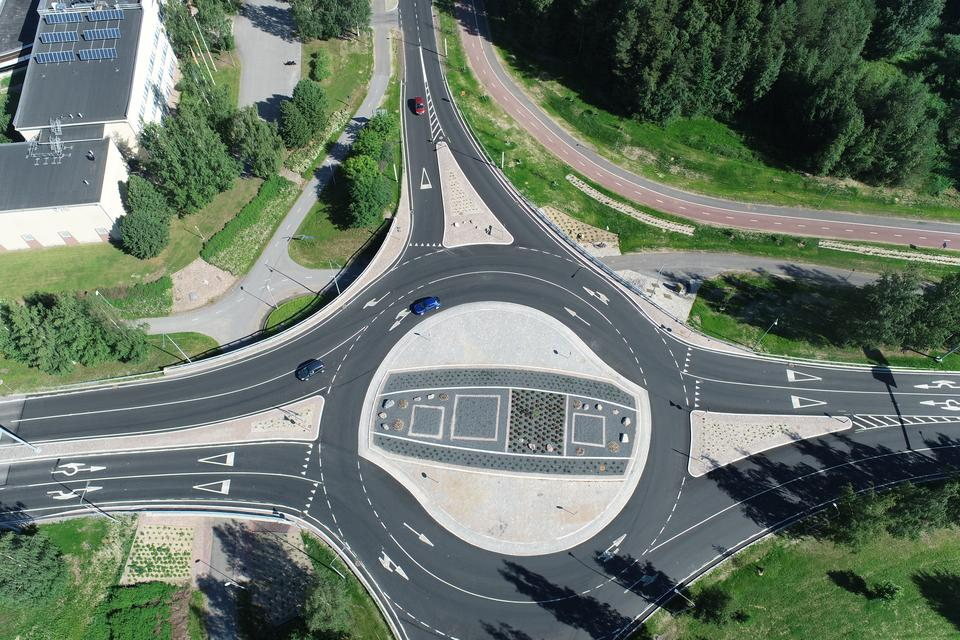intersection: (359, 4, 444, 43)
roundabout: (255, 201, 771, 640)
